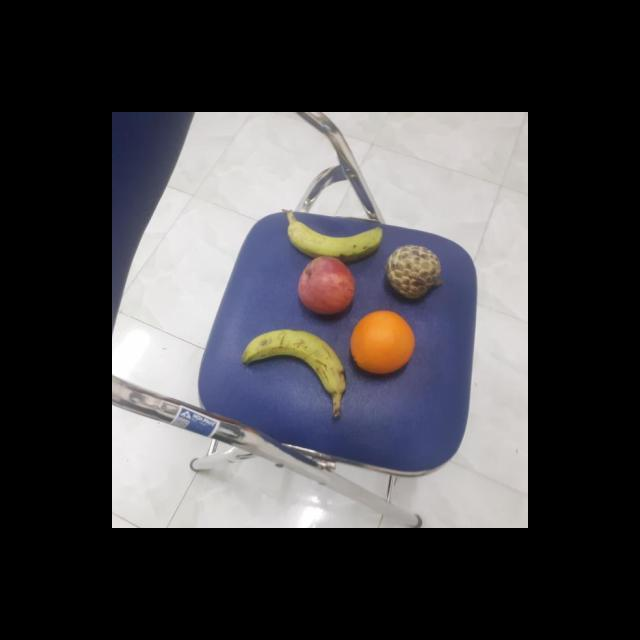Sakya fruit: (382, 243, 443, 300)
apple: (293, 256, 359, 314)
banana: (241, 327, 350, 397), (281, 211, 385, 261)
orange: (348, 309, 416, 376)
